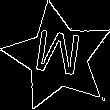M_S: (32, 29, 85, 86)
